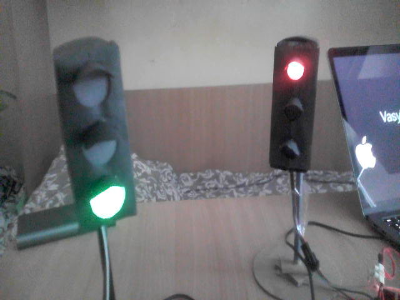trafficlight_green: (60, 52, 132, 220)
trafficlight_red: (273, 47, 317, 170)
